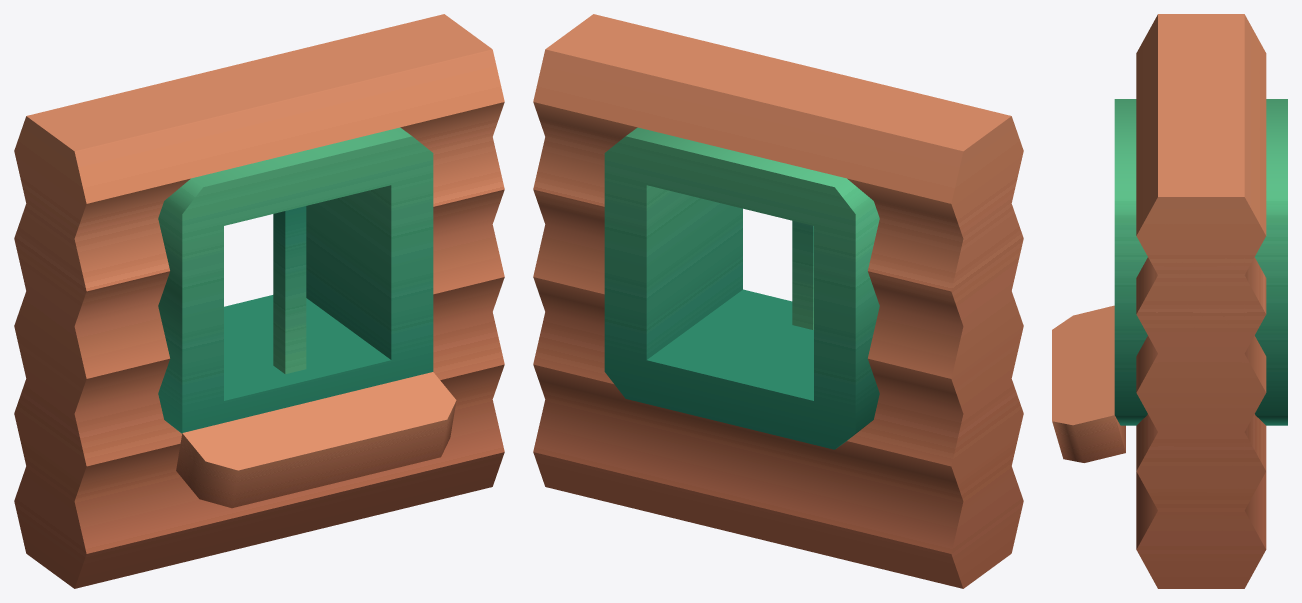
Rendered from cabin-window-b.glb.
3 views of the same model, side by side, from view 1: azimuth 30°, elevation 25°; view 2: azimuth 150°, elevation 25°; view 3: azimuth 270°, elevation 25° (orthographic). The views are drawn at different scales.
Visible parts, largest first — view 1: cabin-window-b; view 2: cabin-window-b; view 3: cabin-window-b.
Part boxes in pixels (box(x1,y1,x2,y2)): cabin-window-b: box(14, 14, 504, 588); cabin-window-b: box(533, 14, 1023, 588); cabin-window-b: box(1052, 14, 1287, 588).
Size of the model in its own units: 1 by 1 by 0.5449.
1 material, 1 textured.
